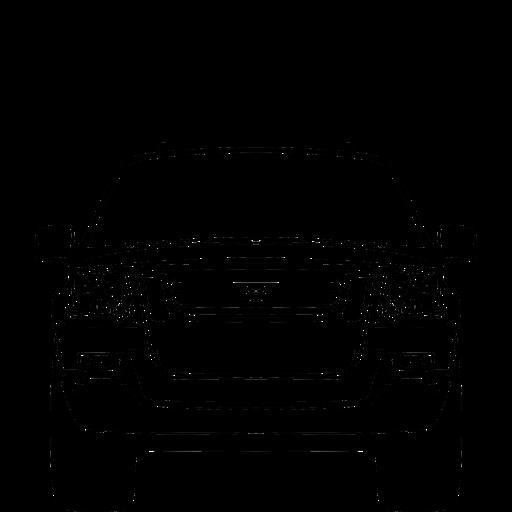car: (310, 470, 326, 483), (224, 489, 227, 492)
suv: (37, 145, 473, 509)
